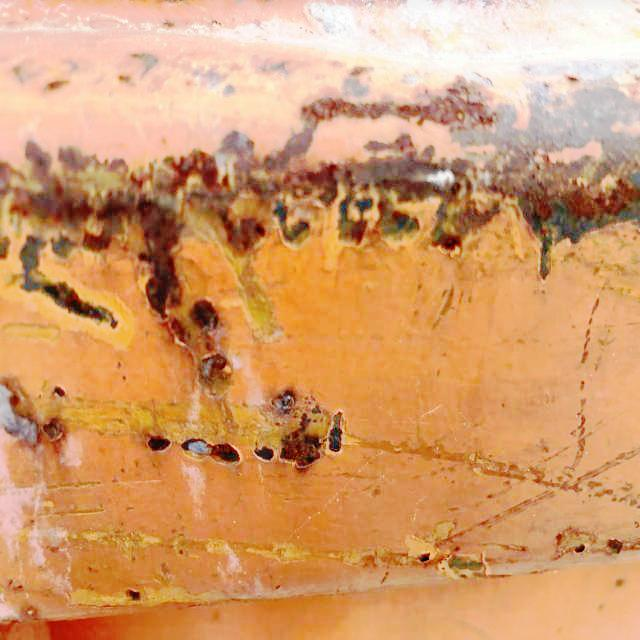Corrosion: (0, 49, 640, 433), (254, 387, 345, 473), (116, 50, 245, 96), (386, 542, 510, 581), (0, 379, 66, 448), (562, 528, 640, 560), (180, 439, 241, 464), (40, 58, 84, 92), (9, 58, 45, 84), (251, 58, 295, 78), (143, 435, 172, 453), (128, 590, 141, 604), (162, 18, 176, 28)
